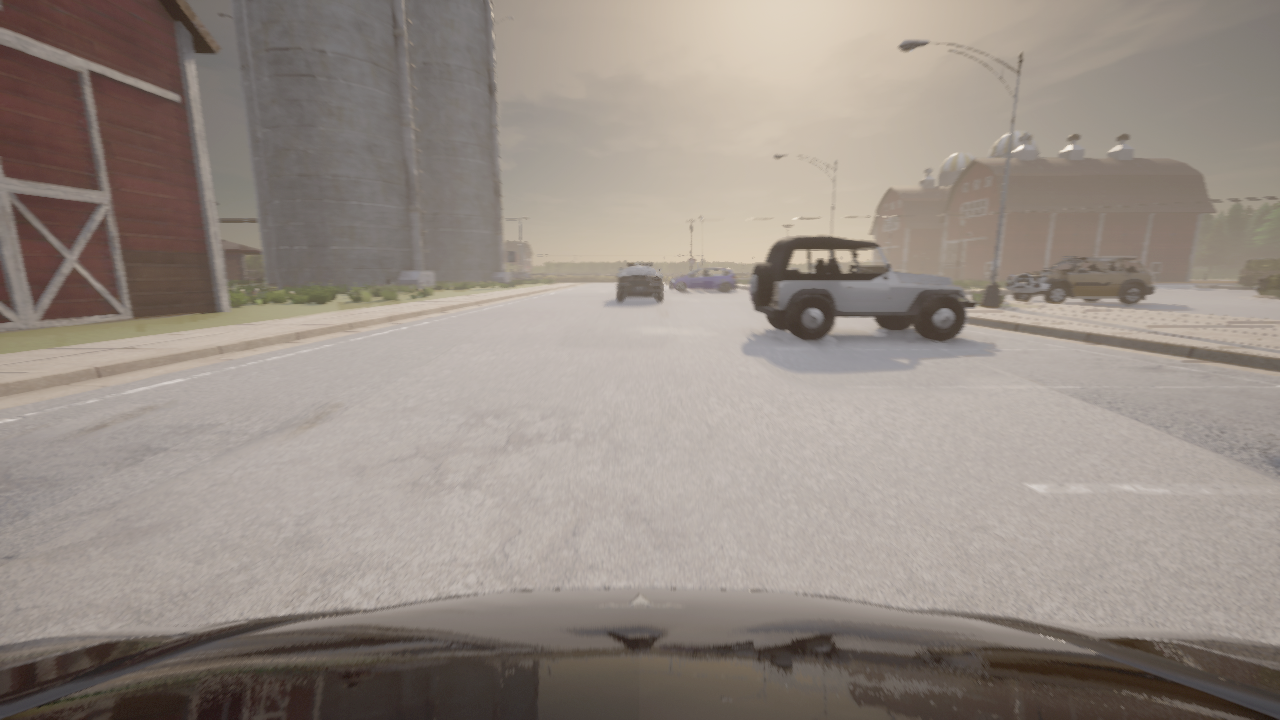cyclist: (0, 588, 1279, 719), (750, 236, 976, 341), (1006, 256, 1154, 304), (617, 263, 662, 302), (668, 267, 736, 291), (512, 271, 532, 280)
